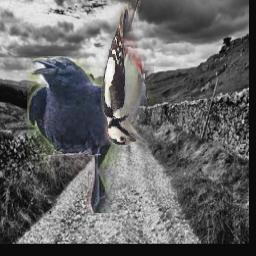Crow: (28, 56, 123, 213)
Woodpecker: (102, 0, 155, 146)
